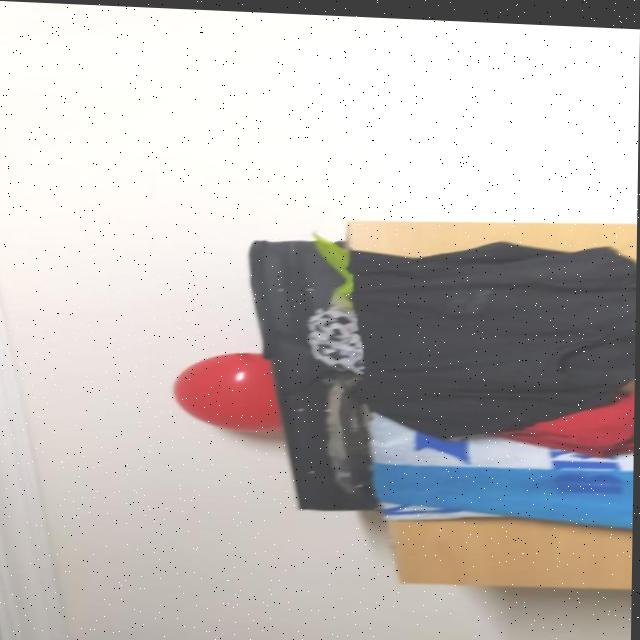balloon: (162, 342, 280, 434)
